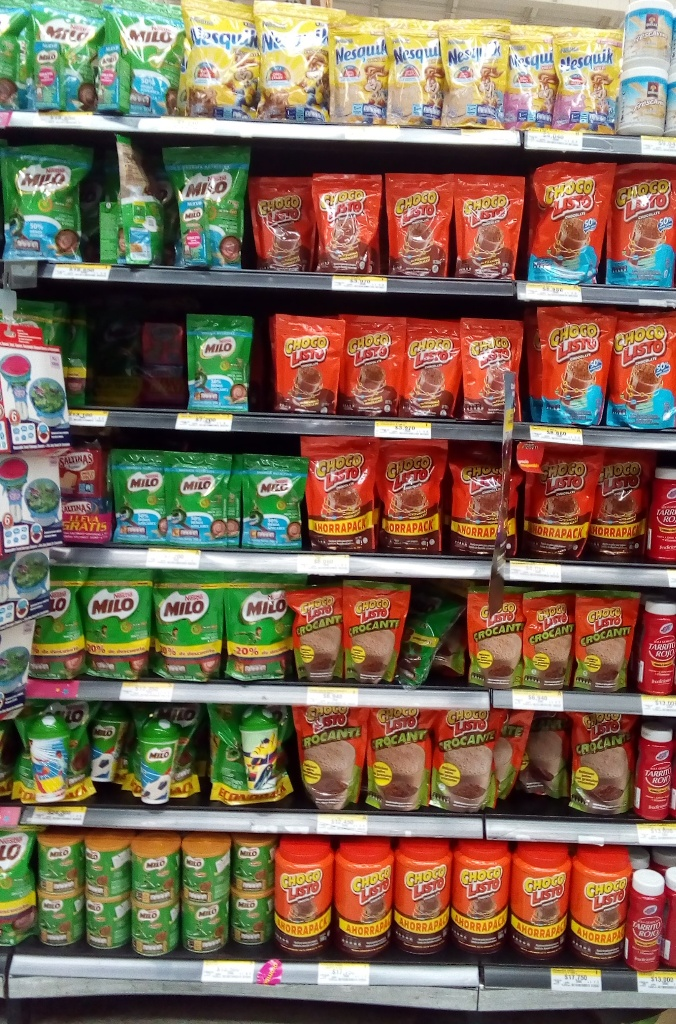COL0170102DYP25000: (575, 585, 639, 691)
COL0170102DYP50000: (571, 707, 639, 820)
COL0170103DYP44000: (591, 446, 653, 557)
COL0170103TRR00100: (572, 845, 634, 967)
COL0170104DYP20000: (530, 157, 617, 290)
COL0170203DYP50000: (223, 572, 305, 684)
COL0170203LAT40000: (230, 835, 276, 896)
COL0170205DYP20000: (242, 454, 309, 551)
COL0170205DYP50000: (3, 140, 91, 266)
COL0170305DYP20000: (556, 27, 625, 136)
COL0170306DYP20000: (384, 17, 446, 128)
